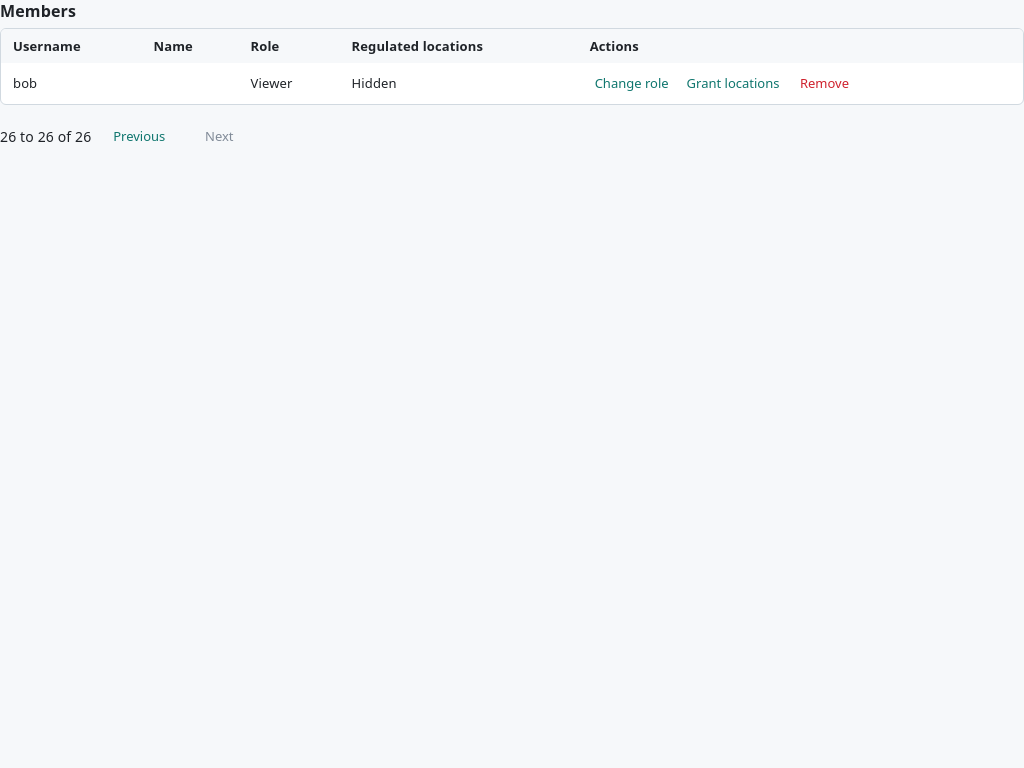
it: focus after a dialog › goes to the Members heading when no row is left on the page
Expected: the table named "Members" is shown, [1,29,1023,104]
What coordinates should you click on to do the following:
click the button with aria-label "Remove bob"
I would click on:
 (824, 83)
Its box is [792,68,856,99].
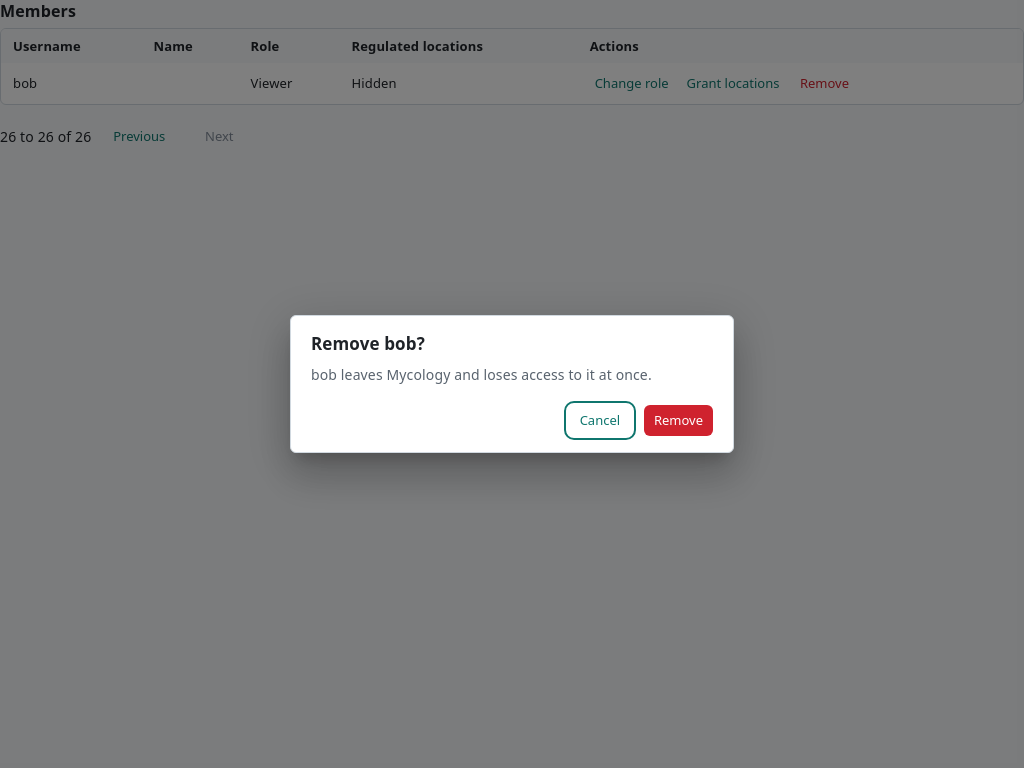
What coordinates should you click on to do the following:
click the button "Remove"
I would click on:
 (678, 420)
Its box is [644,405,713,436].
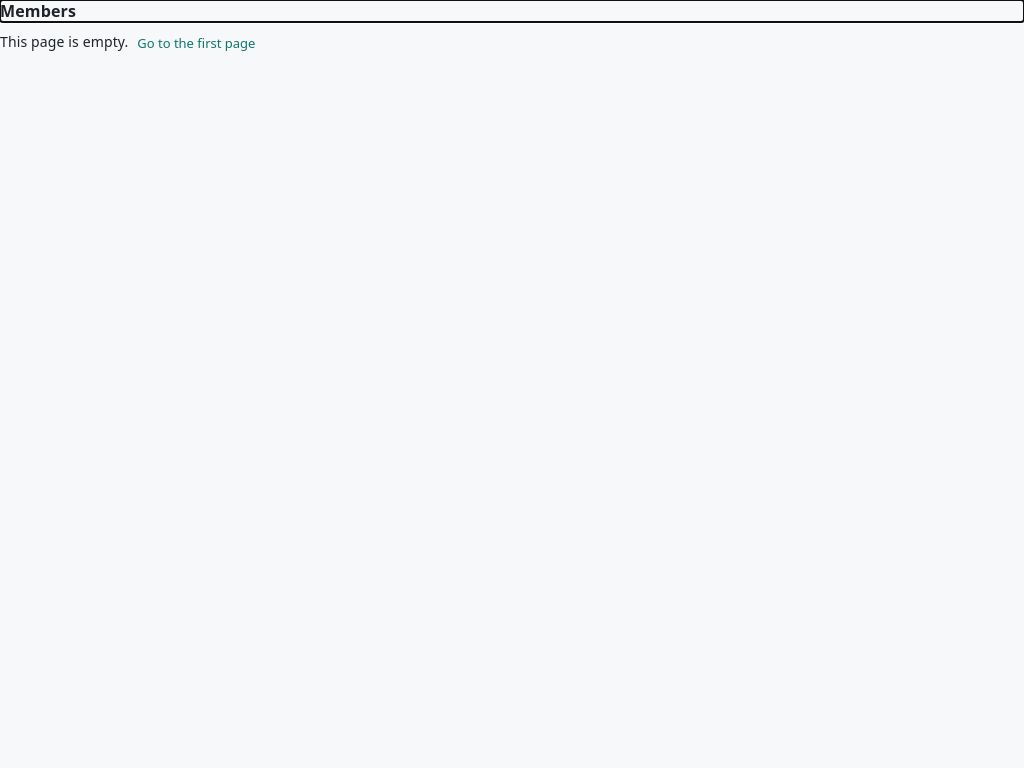
Now the dialog is gone
Now the cell "bob" is gone
Now the text "This page is empty. Go to the first page" is shown, box [0,28,260,59]
